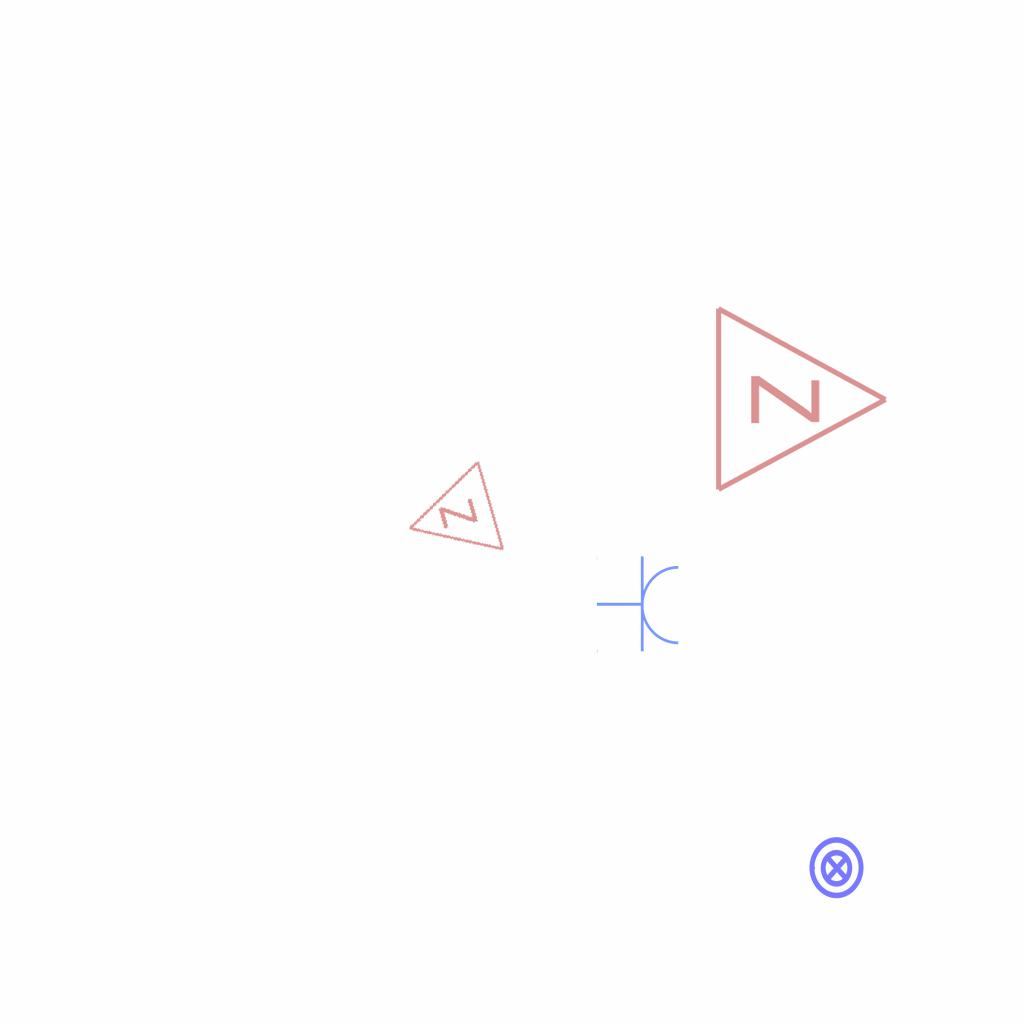Schukosteckdose_einfach: (596, 555, 683, 655)
Taster_beleuchtet: (804, 835, 870, 901)
Zimmersignalleuchte: (701, 299, 901, 495), (389, 457, 513, 579)
